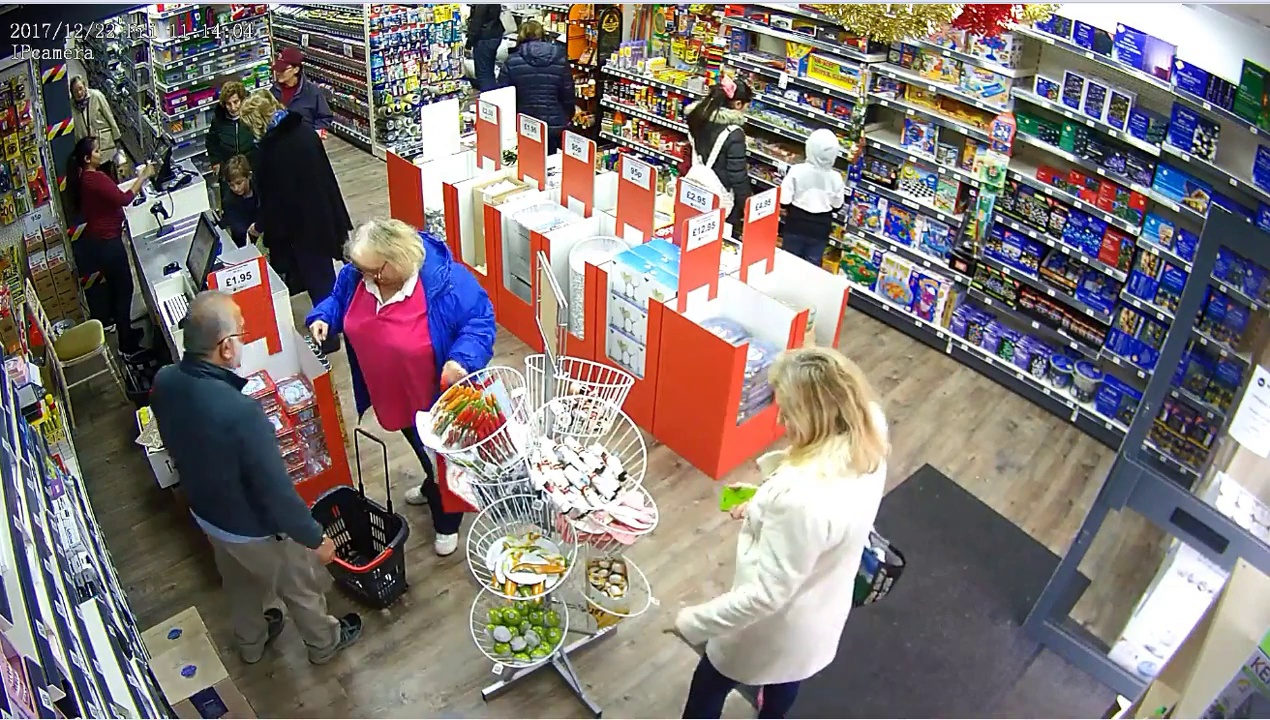face: (223, 91, 242, 118), (83, 143, 104, 167), (226, 171, 245, 196), (275, 60, 294, 83)
